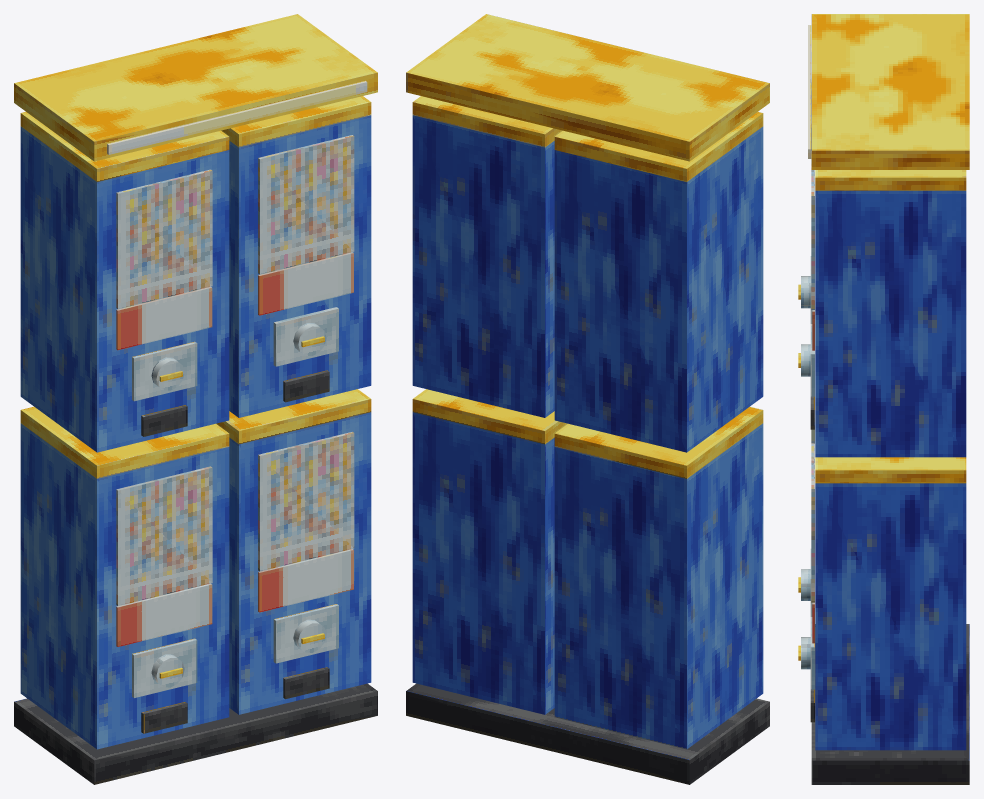
File: route_blue.glb
3 views of the same model, side by side, from view 1: azimuth 30°, elevation 25°; view 2: azimuth 150°, elevation 25°; view 3: azimuth 270°, elevation 25° (orthographic).
Visible parts, largest first — view 1: mesh; view 2: mesh; view 3: mesh.
Boxes of the visible parts, x1=… form: mesh: x1=14, y1=14, x2=377, y2=784; mesh: x1=406, y1=14, x2=769, y2=784; mesh: x1=798, y1=14, x2=969, y2=784.
Bounding box in the file's own units: 0.8999 × 1.95 × 0.478.
Materials: 1 (1 with a texture image).
